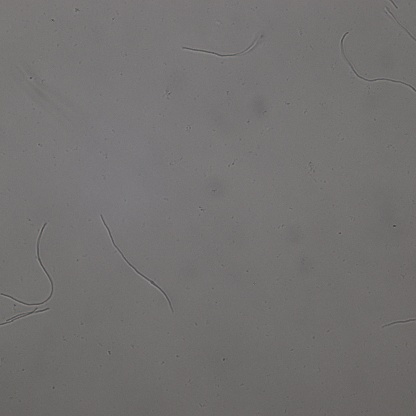Sensitive: (100, 214, 174, 312), (340, 31, 416, 94), (1, 223, 54, 306), (182, 36, 260, 60), (1, 308, 50, 326), (382, 315, 416, 328)
